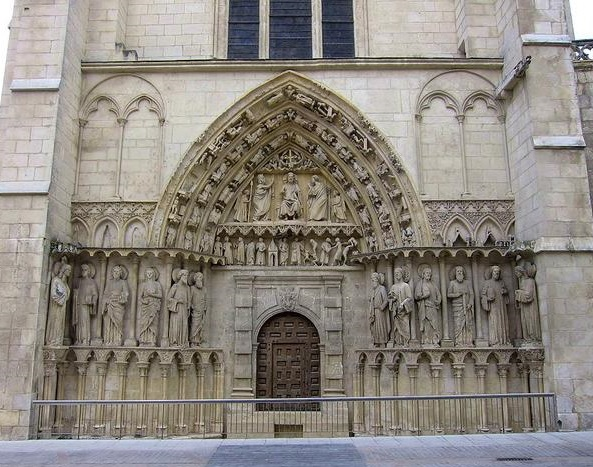arco-apuntado: (159, 70, 419, 245)
arco-medio-punto: (253, 304, 325, 351)
